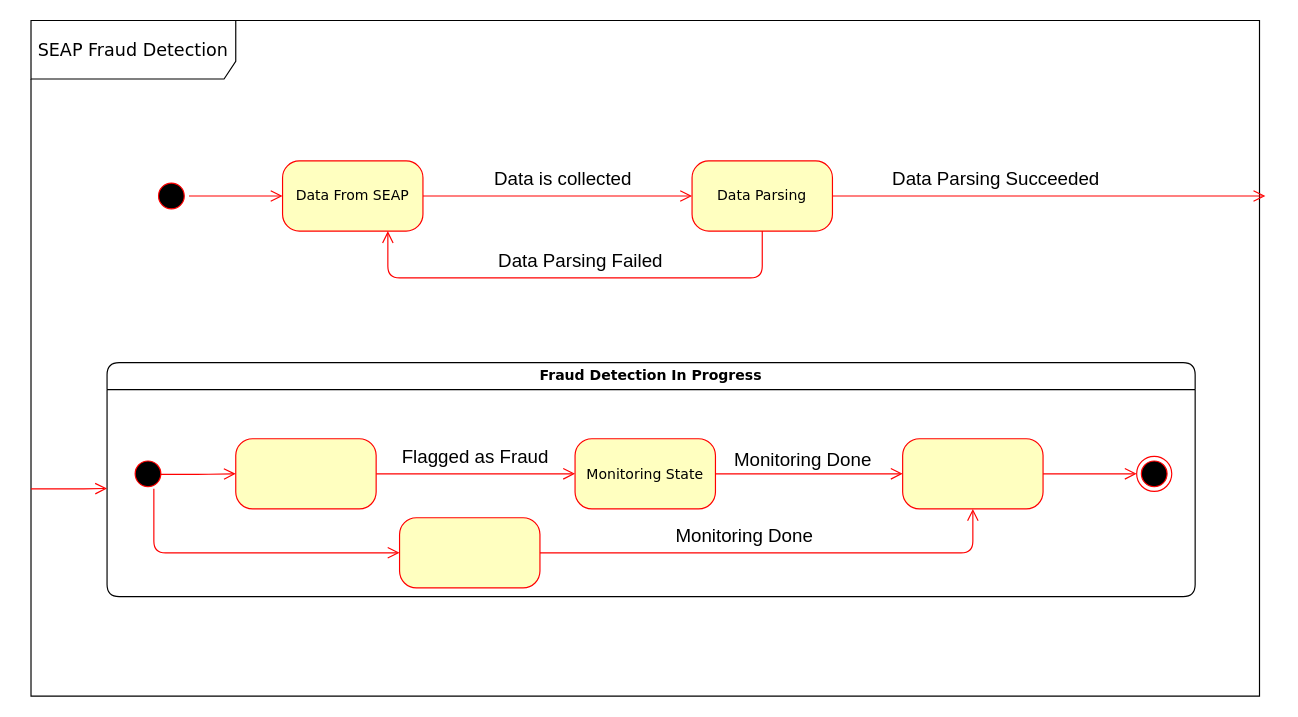
This 1298x717 diagram has some shape labels left out. The shapes that lost their labels are listed below. From the top down, each one's centre as x and y in pixels, then its label:
At [305,473]: "Fraud Detected".
At [972,473]: "Process Completed".
At [469,552]: "No Fraud Detected".
